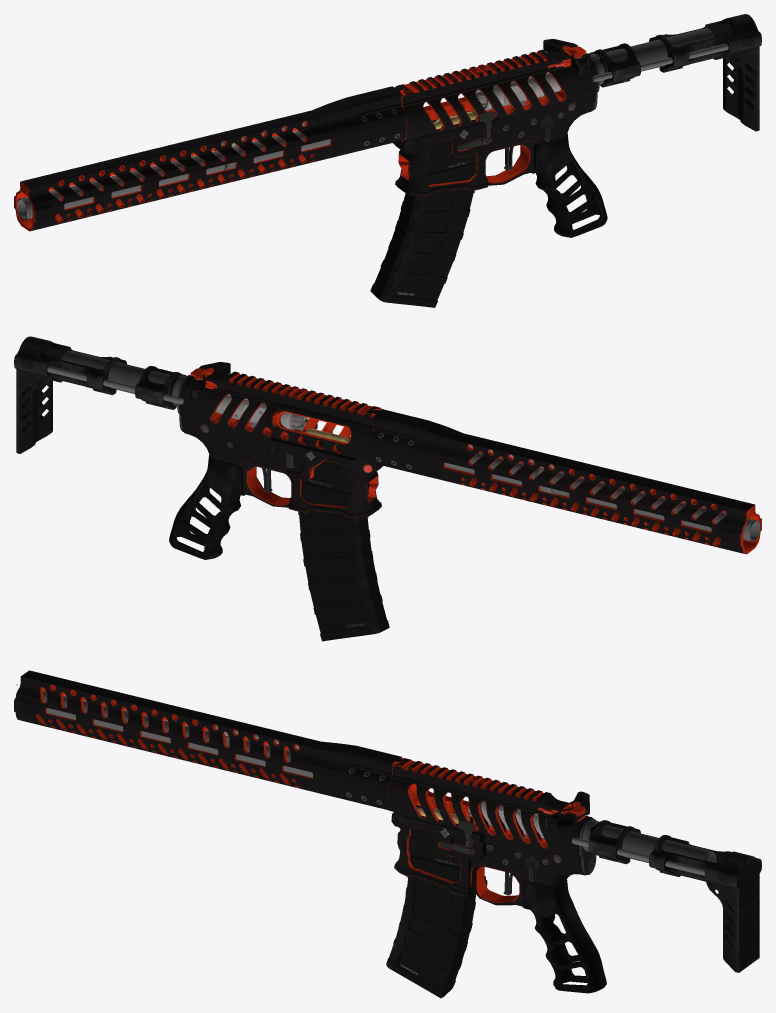
File: weapon_ar15d.glb
The picture shows the model from 3 angles, top to bottom: view 1: azimuth 30°, elevation 25°; view 2: azimuth 150°, elevation 25°; view 3: azimuth 330°, elevation 25°; orthographic projection.
Parts seen in each view (by area): view 1: rail_ar15d, main_frame_ar15d, magazine_ar15d, stock_ar15d, grip_ar15d, barrel_ar15d, reloader_ar15d; view 2: rail_ar15d, main_frame_ar15d, magazine_ar15d, stock_ar15d, grip_ar15d, barrel_ar15d, reloader_ar15d; view 3: rail_ar15d, main_frame_ar15d, magazine_ar15d, stock_ar15d, grip_ar15d, barrel_ar15d, reloader_ar15d.
Part boxes in pixels (<box>): rail_ar15d: <box>14,86,406,231</box>; main_frame_ar15d: <box>393,49,605,196</box>; magazine_ar15d: <box>370,110,479,307</box>; stock_ar15d: <box>589,14,761,131</box>; grip_ar15d: <box>531,133,607,237</box>; barrel_ar15d: <box>17,121,330,219</box>; reloader_ar15d: <box>543,39,590,75</box>; rail_ar15d: <box>369,409,761,554</box>; main_frame_ar15d: <box>172,371,382,518</box>; magazine_ar15d: <box>298,427,389,641</box>; stock_ar15d: <box>14,336,186,453</box>; grip_ar15d: <box>169,455,245,559</box>; barrel_ar15d: <box>445,445,759,541</box>; reloader_ar15d: <box>186,362,230,398</box>; rail_ar15d: <box>14,670,403,810</box>; main_frame_ar15d: <box>387,758,599,906</box>; magazine_ar15d: <box>386,805,475,998</box>; stock_ar15d: <box>572,820,761,972</box>; grip_ar15d: <box>521,879,606,993</box>; barrel_ar15d: <box>16,684,312,777</box>; reloader_ar15d: <box>543,791,589,828</box>.
Size of the model in its own units: 90.27 by 27.24 by 7.86.
3 materials, 3 textured.
